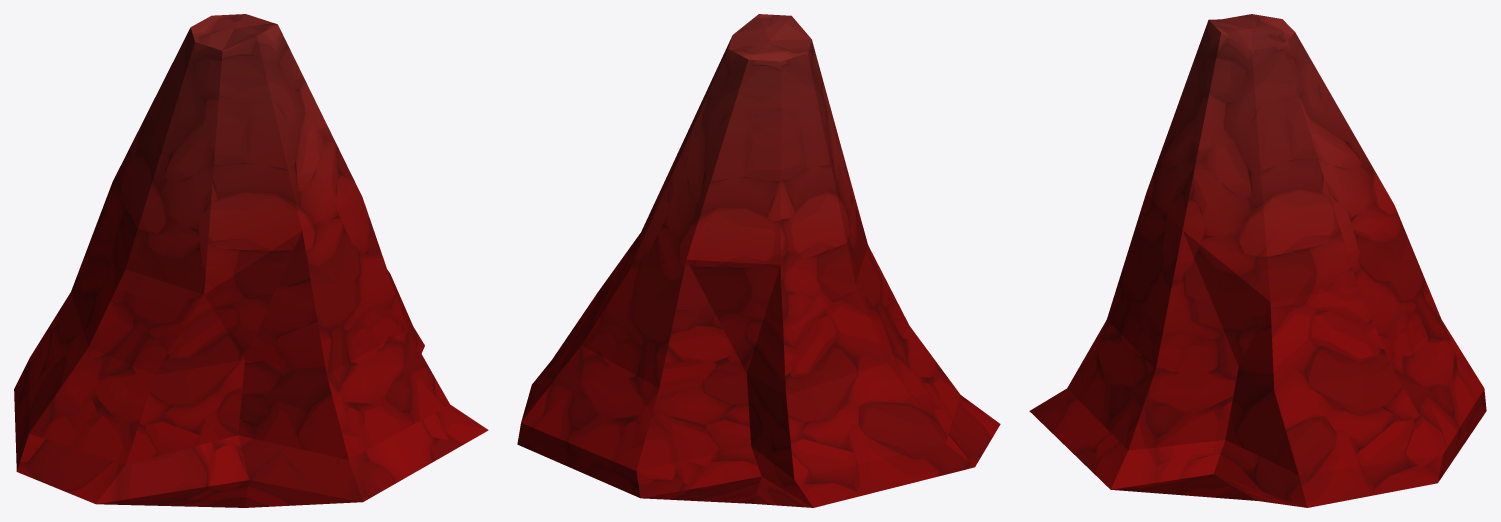
3 views of the same model, side by side, from view 1: azimuth 30°, elevation 25°; view 2: azimuth 150°, elevation 25°; view 3: azimuth 270°, elevation 25° (orthographic). The views are drawn at different scales.
Parts seen in each view (by area): view 1: SM_Tree_Pine_Base_01; view 2: SM_Tree_Pine_Base_01; view 3: SM_Tree_Pine_Base_01.
Part boxes in pixels (box(x1,y1,x2,y2)): SM_Tree_Pine_Base_01: box(14, 14, 488, 507); SM_Tree_Pine_Base_01: box(517, 14, 1000, 507); SM_Tree_Pine_Base_01: box(1029, 14, 1486, 507).
Bounding box in the file's own units: 1.23 × 1.33 × 1.16.
Materials: 1 (1 with a texture image).
